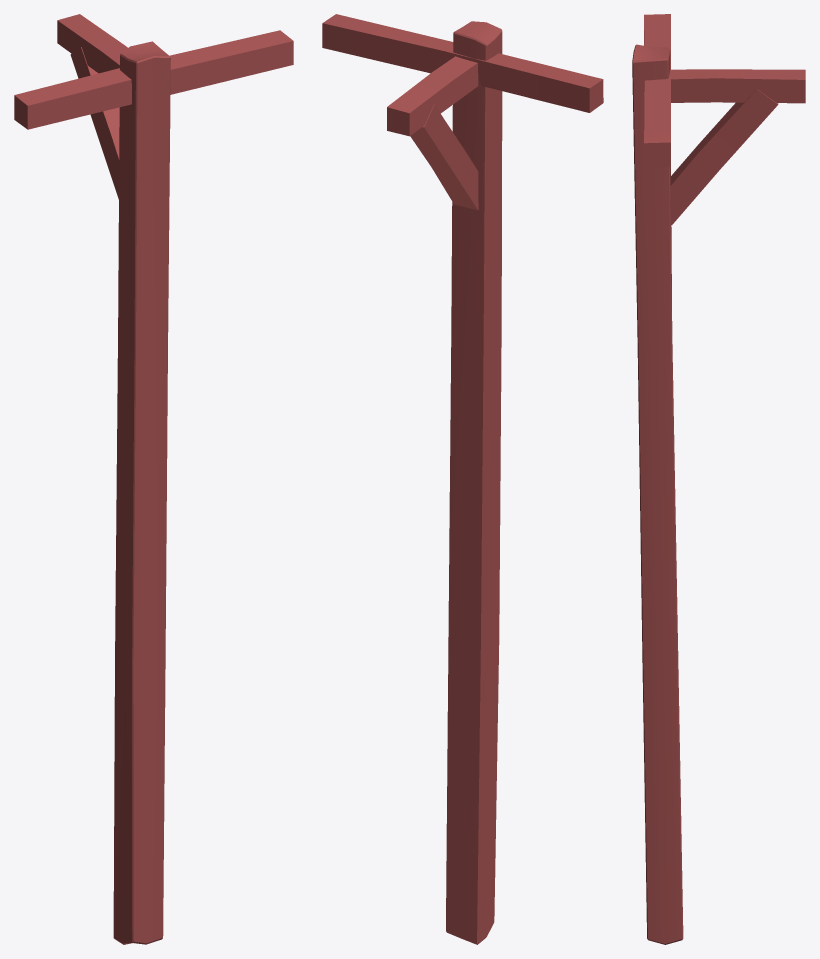
The model's file is Beam_Structure_12_Lod0.fbx.
The picture shows the model from 3 angles, left to right: view 1: azimuth 30°, elevation 25°; view 2: azimuth 150°, elevation 25°; view 3: azimuth 270°, elevation 25°; orthographic projection.
Visible parts, largest first — view 1: Beam_Structure_12_Lod0; view 2: Beam_Structure_12_Lod0; view 3: Beam_Structure_12_Lod0.
Boxes of the visible parts, <box> form: Beam_Structure_12_Lod0: <box>14,14,293,944</box>; Beam_Structure_12_Lod0: <box>322,14,603,944</box>; Beam_Structure_12_Lod0: <box>632,14,805,944</box>.
Size of the model in its own units: 93.5 by 301 by 53.38.
